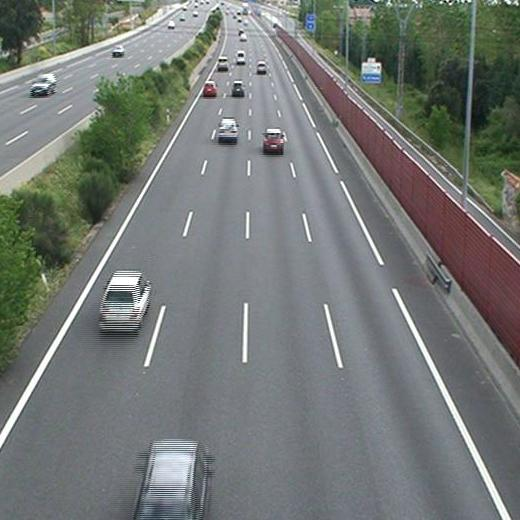car: (132, 441, 209, 520), (99, 273, 150, 329), (263, 129, 284, 150), (219, 119, 239, 138), (231, 81, 244, 94), (203, 82, 216, 95), (217, 57, 229, 69), (256, 61, 267, 72)
van: (236, 50, 245, 63)
